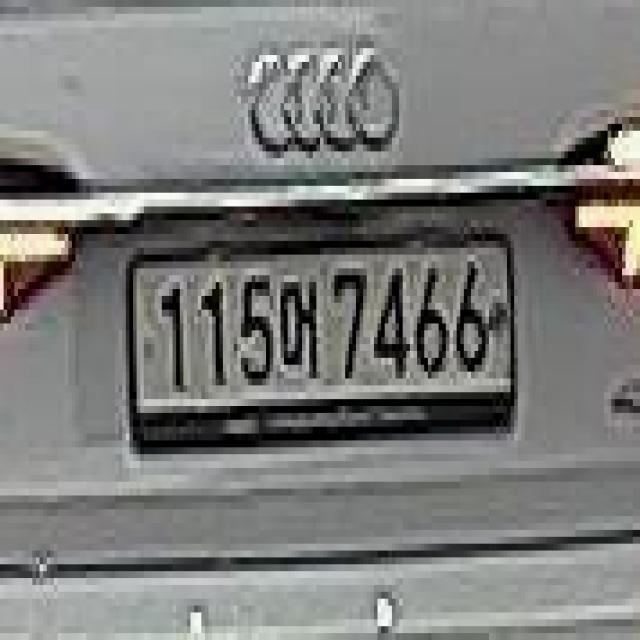illegal_plate: (118, 226, 526, 452)
